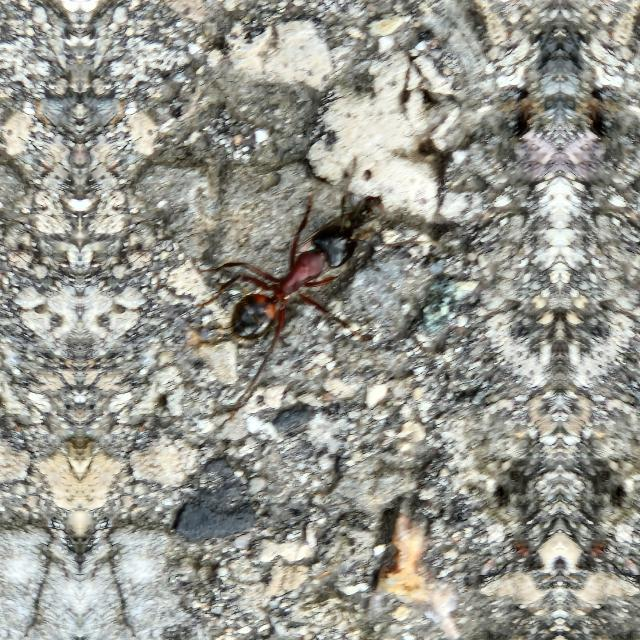Camponotus: (202, 182, 380, 380)
